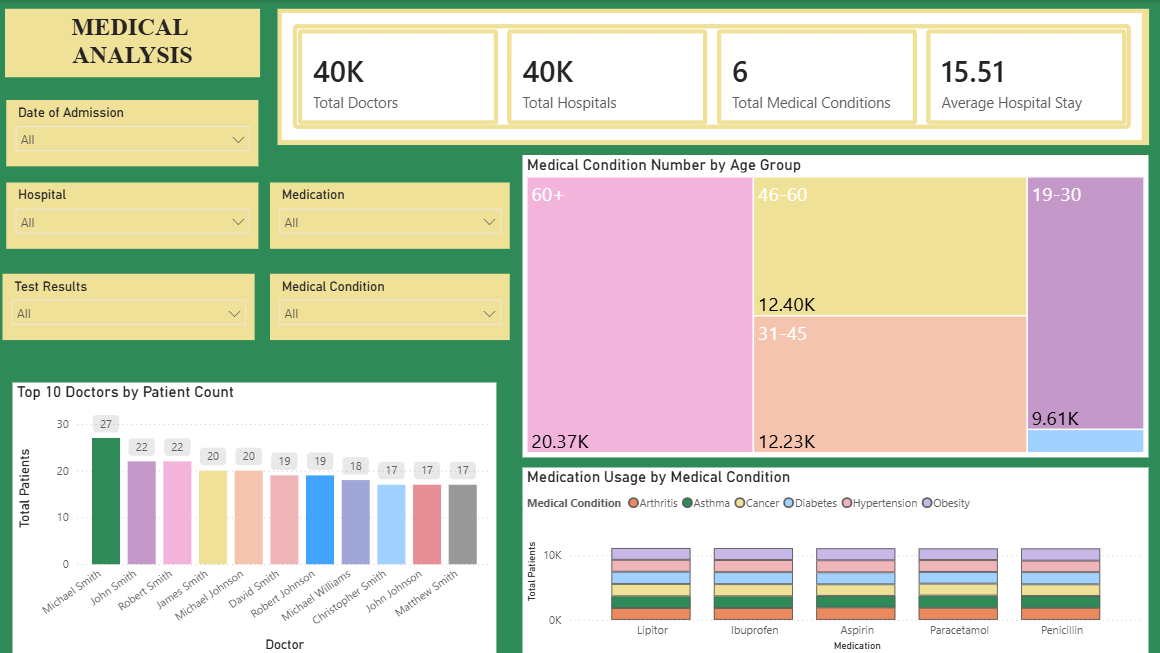

The dashboard page shown, as its layout file describes it:
{"tool":"powerbi","page":{"name":"Page 4","canvas":[1280,720],"ordinal":3},"visuals":[{"type":"textbox","box":[11,9.6,279.9,75.5],"z":0},{"type":"cardVisual","fields":{"Data":["All Measures.Total Doctors","All Measures.Total Hospitals","All Measures.Total Medical Conditions","All Measures.Average Stay"]},"box":[310.1,9.6,956.4,149.6],"z":1000},{"type":"slicer","fields":{"Values":["Healthcare data.Date of Admission"]},"box":[12.3,109.8,277.2,72.7],"z":2000},{"type":"treemap","title":" Medical Condition Number by Age Group","fields":{"Values":["CountNonNull(Healthcare data.Medical Condition)"],"Group":["Healthcare data.Age Group"]},"box":[579.1,170.2,687.5,332.1],"z":3000},{"type":"columnChart","title":"Top 10 Doctors by Patient Count","fields":{"Category":["Healthcare data.Doctor"],"Y":["All Measures.Total Patients"]},"box":[19.2,419.9,531,300.5],"z":4000},{"type":"columnChart","title":"Medication Usage by Medical Condition","fields":{"Category":["Healthcare data.Medication"],"Y":["All Measures.Total Patients"],"Series":["Healthcare data.Medical Condition"]},"box":[579.1,513.2,687.5,207.2],"z":5000},{"type":"slicer","fields":{"Values":["Healthcare data.Hospital"]},"box":[12.3,200.3,277.2,72.7],"z":6000},{"type":"slicer","fields":{"Values":["Healthcare data.Test Results"]},"box":[8.2,300.5,277.2,72.7],"z":7000},{"type":"slicer","fields":{"Values":["Healthcare data.Medication"]},"box":[301.9,200.3,263.5,72.7],"z":8000},{"type":"slicer","fields":{"Values":["Healthcare data.Medical Condition"]},"box":[301.9,300.5,263.5,72.7],"z":9000}]}

Visuals, with their boxes in screenshot pixels (x1, y1, x2, y2), scaled from the page's 1280x720 canvas onto the 1160x653 screenshot:
textbox: 10 9 264 77
cardVisual - All Measures.Total Doctors x All Measures.Total Hospitals: 281 9 1148 144
slicer - Healthcare data.Date of Admission: 11 100 262 166
" Medical Condition Number by Age Group" treemap: 525 154 1148 456
"Top 10 Doctors by Patient Count" columnChart: 17 381 499 652
"Medication Usage by Medical Condition" columnChart: 525 465 1148 652
slicer - Healthcare data.Hospital: 11 182 262 248
slicer - Healthcare data.Test Results: 7 273 259 338
slicer - Healthcare data.Medication: 274 182 512 248
slicer - Healthcare data.Medical Condition: 274 273 512 338
